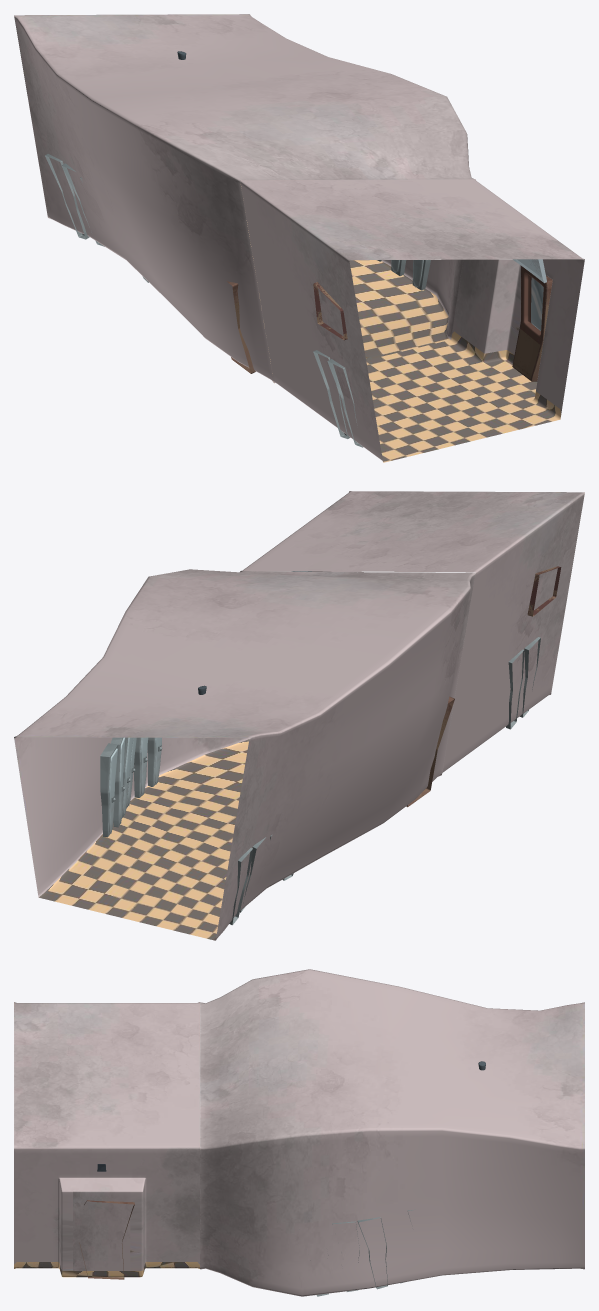
File: corridor_3_pivot.fbx
The picture shows the model from 3 angles, top to bottom: view 1: azimuth 30°, elevation 25°; view 2: azimuth 150°, elevation 25°; view 3: azimuth 270°, elevation 25°; orthographic projection. The views are drawn at different scales.
Visible parts, largest first — view 1: polySurface73; view 2: polySurface73; view 3: polySurface73.
Boxes of the visible parts, x1,y1,x2,y2 form: polySurface73: (14, 14, 584, 462); polySurface73: (14, 491, 584, 940); polySurface73: (14, 969, 584, 1296).
Size of the model in its own units: 631 by 473 by 1190.
7 materials, 7 textured.
